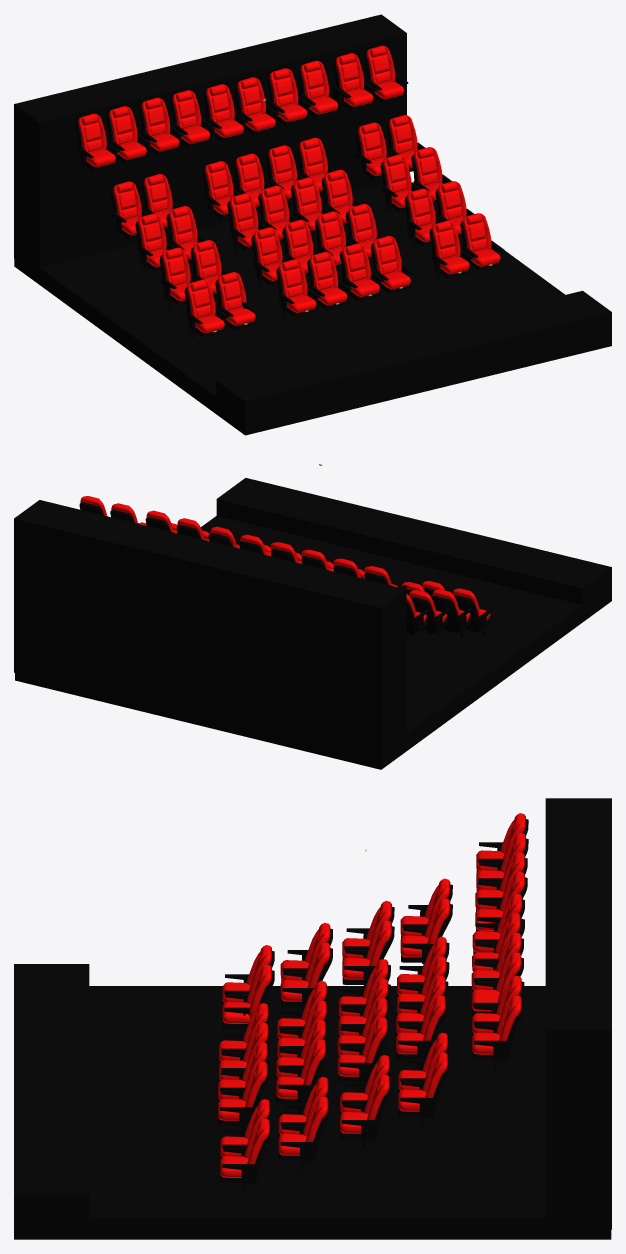
The model's file is yellow-setting.glb.
3 views of the same model, one above another, from view 1: azimuth 30°, elevation 25°; view 2: azimuth 150°, elevation 25°; view 3: azimuth 270°, elevation 25° (orthographic). The views are drawn at different scales.
Parts seen in each view (by area): view 1: Cube.003, Cube.002, Cube, Cushion1_mRed_0.053, Cushion1_mRed_0.018, Cushion1_mRed_0.005, Cushion1_mRed_0.009, Cushion1_mRed_0.050, Cushion1_mRed_0.054, Cushion1_mRed_0.001, Cushion1_mRed_0.049, Cushion1_mRed_0.016 (+33 smaller); view 2: Cube.002, Cube.003, Cube, pCube2_mShinyBlack_0.020, pCube2_mShinyBlack_0.018, pCube2_mShinyBlack_0.022; view 3: Cube.003, Cube.002, Cube, Cushion1_mRed_0.024, Cushion1_mRed_0.018, Cushion1_mRed_0.016, Cushion1_mRed_0.070, Cushion1_mRed_0.004, Cushion1_mRed_0.008, Cushion1_mRed_0.072, Cushion1_mRed_0.066, Cushion1_mRed_0.068 (+4 smaller).
Boxes of the visible parts, x1,y1,x2,y2 form: Cube.003: [14, 184, 611, 435]; Cube.002: [14, 14, 406, 276]; Cube: [216, 290, 611, 424]; Cushion1_mRed_0.053: [206, 84, 234, 123]; Cushion1_mRed_0.018: [144, 174, 172, 213]; Cushion1_mRed_0.005: [229, 193, 258, 232]; Cushion1_mRed_0.009: [253, 227, 282, 266]; Cushion1_mRed_0.050: [109, 106, 137, 145]; Cushion1_mRed_0.054: [237, 77, 266, 116]; Cushion1_mRed_0.001: [205, 161, 233, 200]; Cushion1_mRed_0.049: [78, 113, 106, 153]; Cushion1_mRed_0.016: [373, 236, 401, 275]; Cube.002: [14, 500, 406, 761]; Cube.003: [15, 516, 611, 769]; Cube: [216, 478, 611, 611]; pCube2_mShinyBlack_0.020: [431, 595, 458, 633]; pCube2_mShinyBlack_0.018: [410, 596, 435, 633]; pCube2_mShinyBlack_0.022: [453, 594, 478, 632]; Cube.003: [14, 986, 611, 1239]; Cube.002: [545, 798, 611, 1229]; Cube: [14, 964, 89, 1217]; Cushion1_mRed_0.024: [247, 964, 272, 1018]; Cushion1_mRed_0.018: [425, 898, 450, 943]; Cushion1_mRed_0.016: [242, 1061, 267, 1107]; Cushion1_mRed_0.070: [303, 1096, 328, 1141]; Cushion1_mRed_0.004: [420, 995, 445, 1040]; Cushion1_mRed_0.008: [362, 1017, 387, 1062]; Cushion1_mRed_0.072: [244, 1118, 269, 1164]; Cushion1_mRed_0.066: [422, 1052, 448, 1097]; Cushion1_mRed_0.068: [364, 1074, 389, 1119].
Size of what is drawn, in the model's own units: 12.95 by 6.68 by 14.11.
